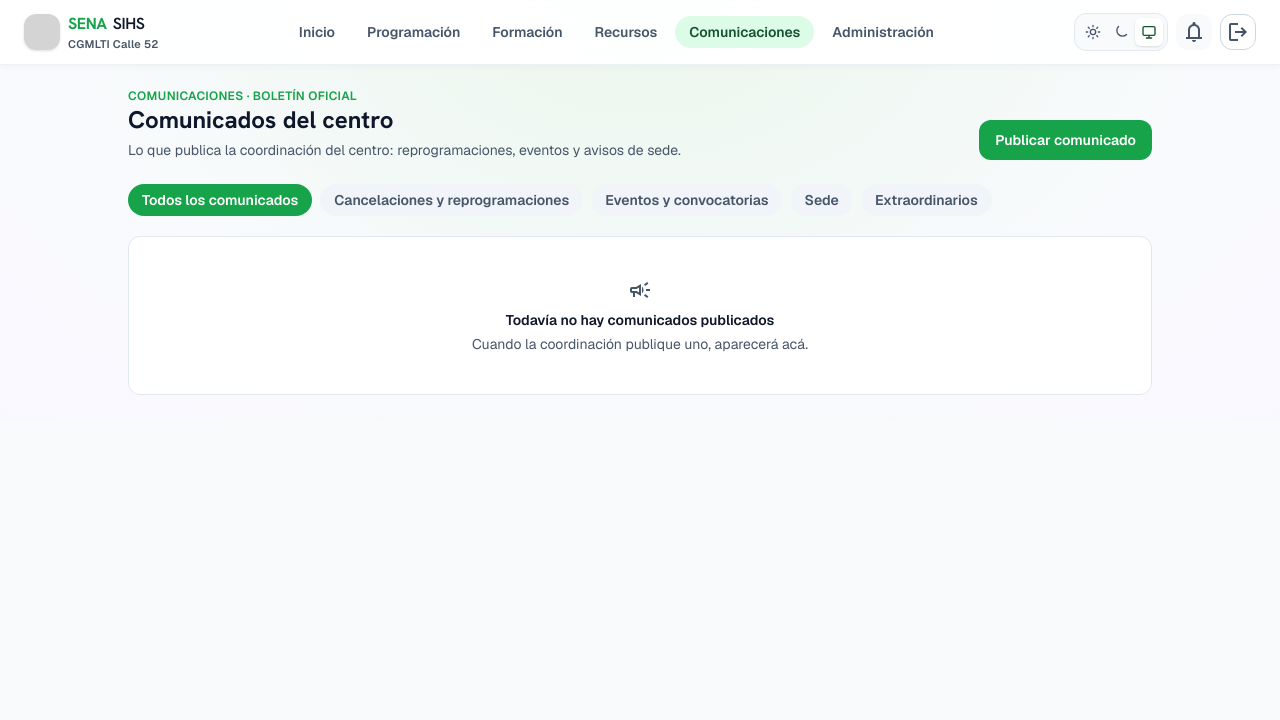
Test: Avisos › permite al coordinador publicar un comunicado con audiencia
Click the button "Publicar comunicado" at (1066, 140), box [979,120,1152,160]
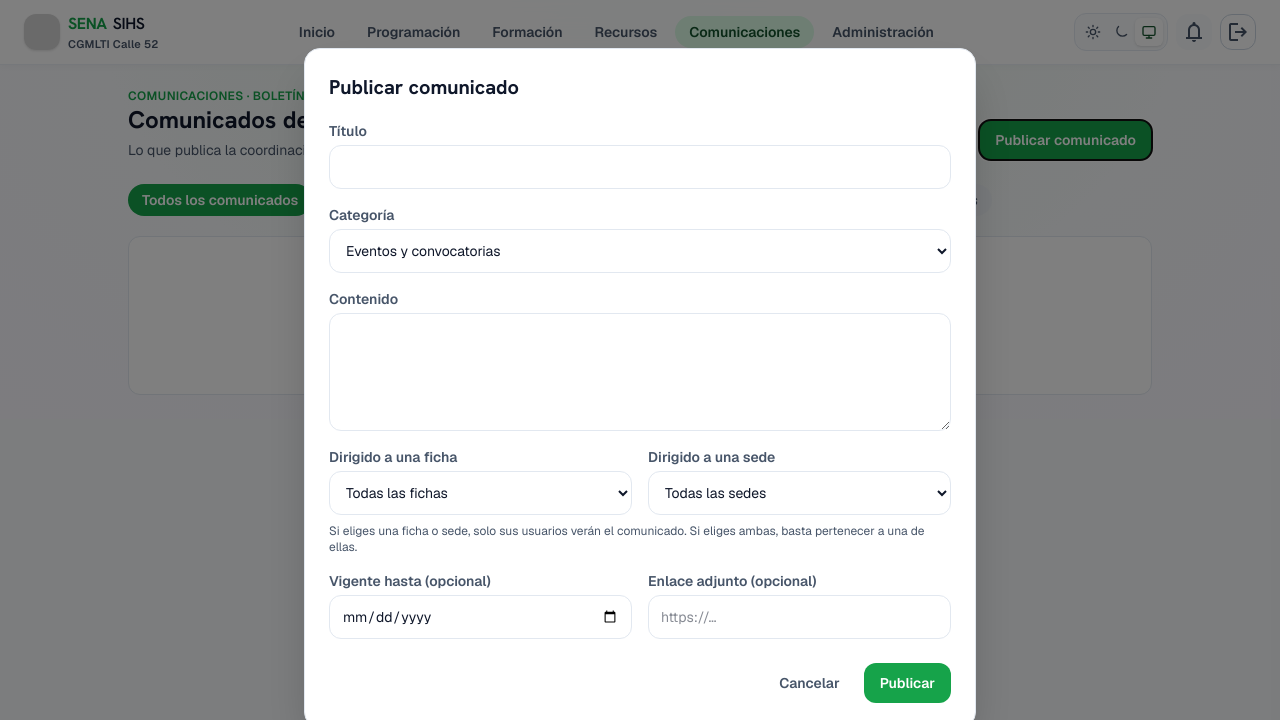
Type "Cambio de aula" into the field labelled "Título" at (640, 167), box [329,145,951,189]
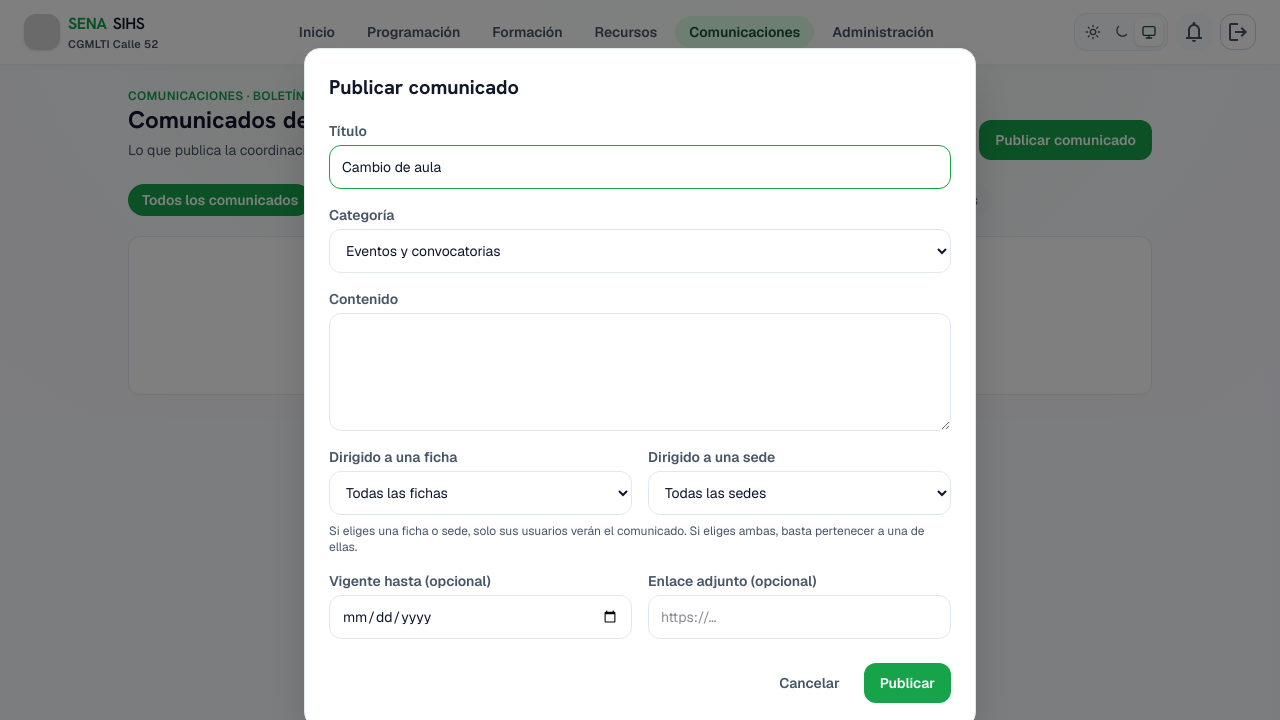
Select "Cancelaciones y reprogramaciones" in the dropdown labelled "Categoría" at (640, 251), box [329,229,951,273]
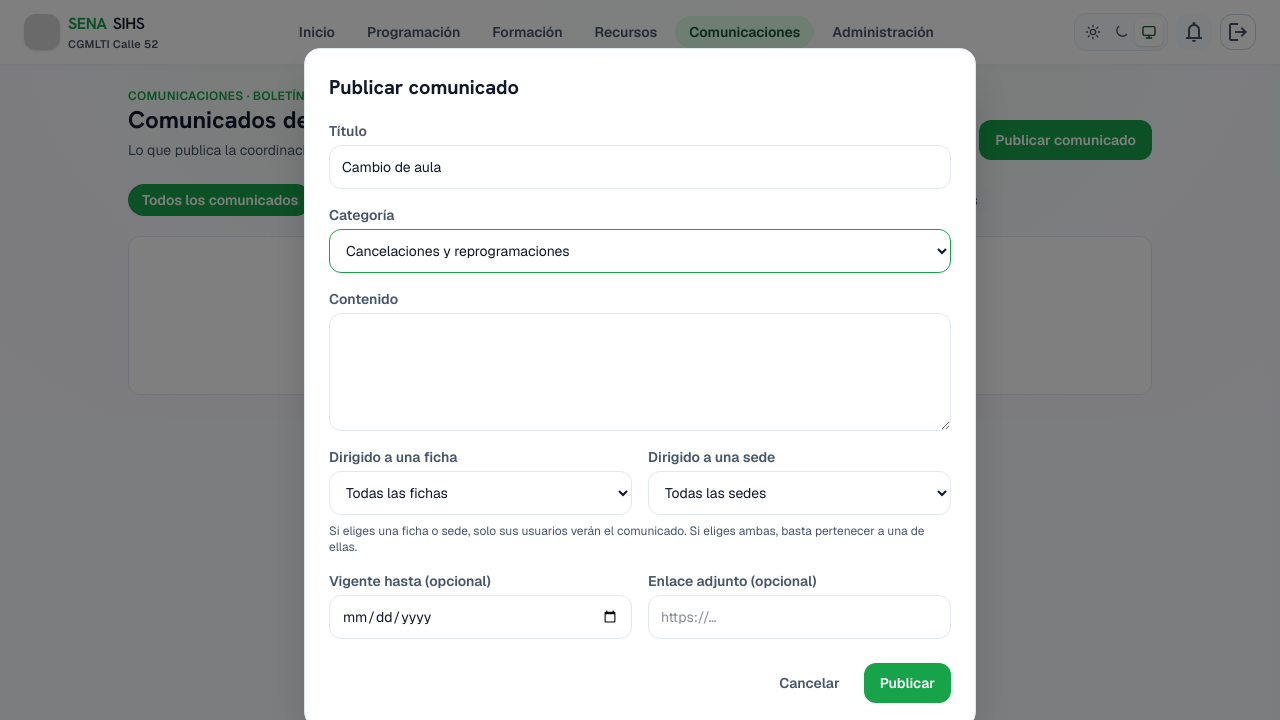
Type "La clase se traslada al laboratorio." into the text box labelled "Contenido" at (640, 372), box [329,313,951,431]
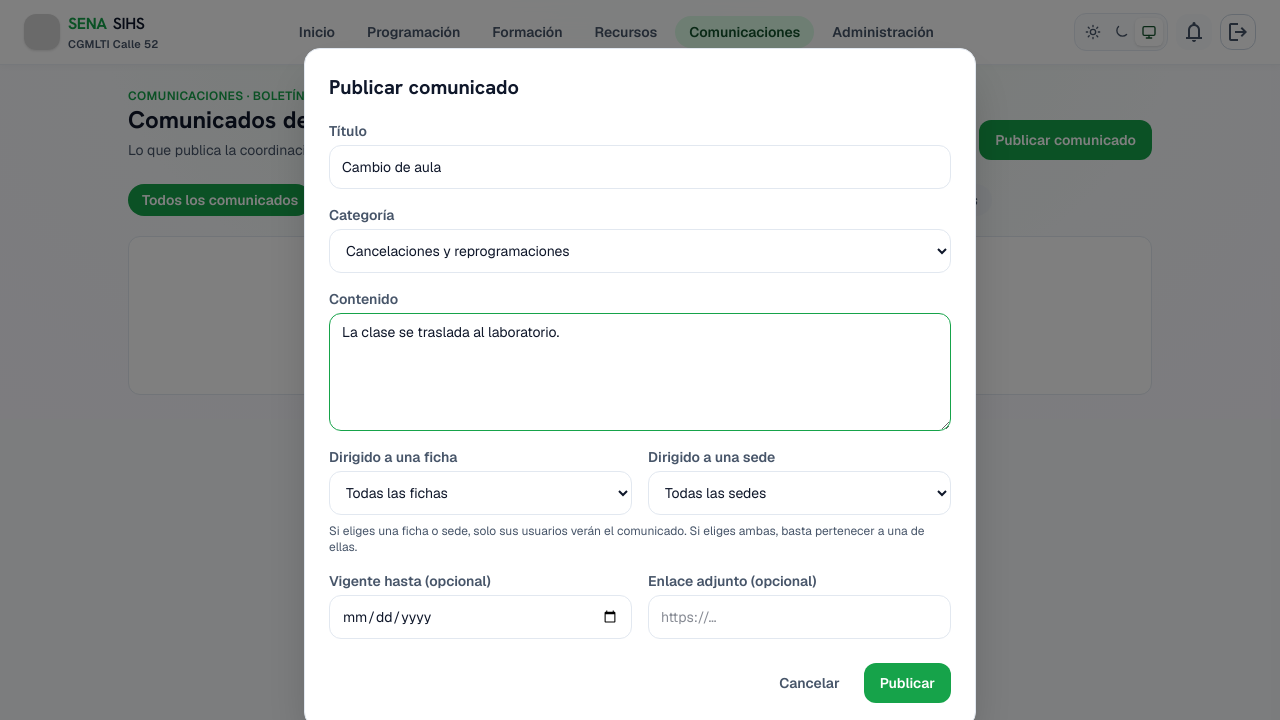
Select "3171618" in the dropdown labelled "Dirigido a una ficha" at (480, 493), box [329,471,632,515]
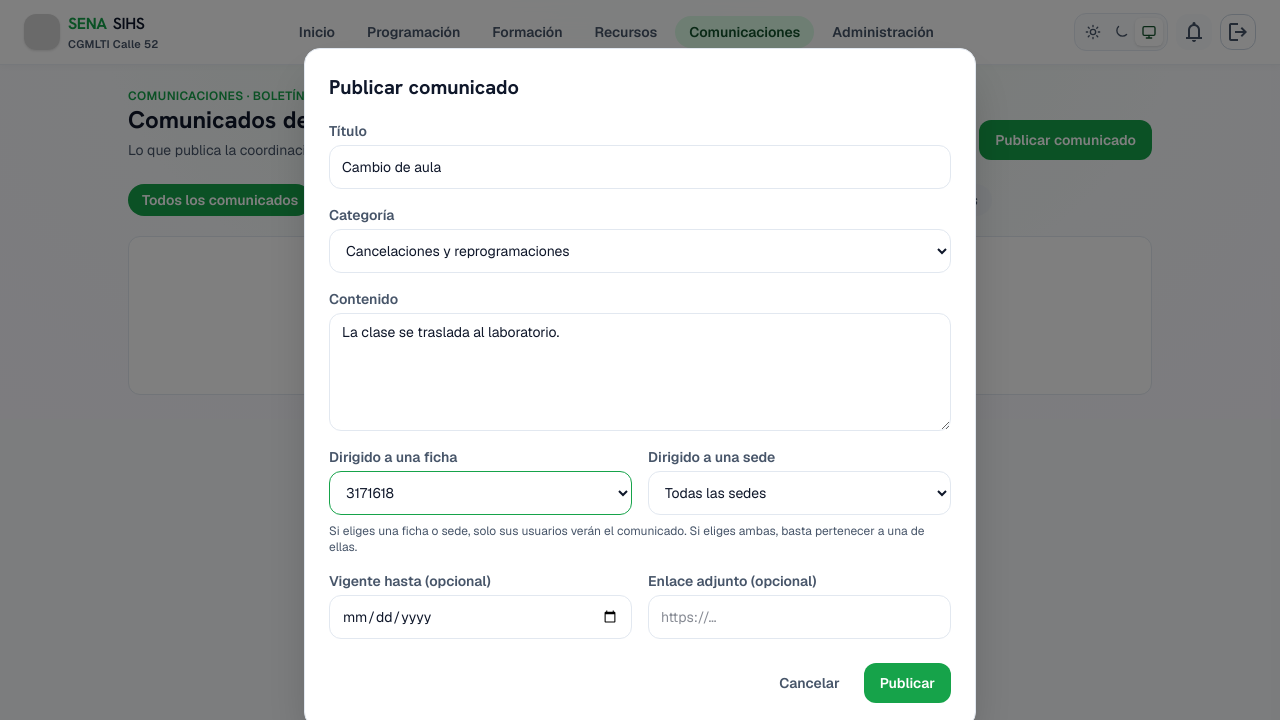
Click the button "Publicar" at (907, 683), box [864,663,951,703]
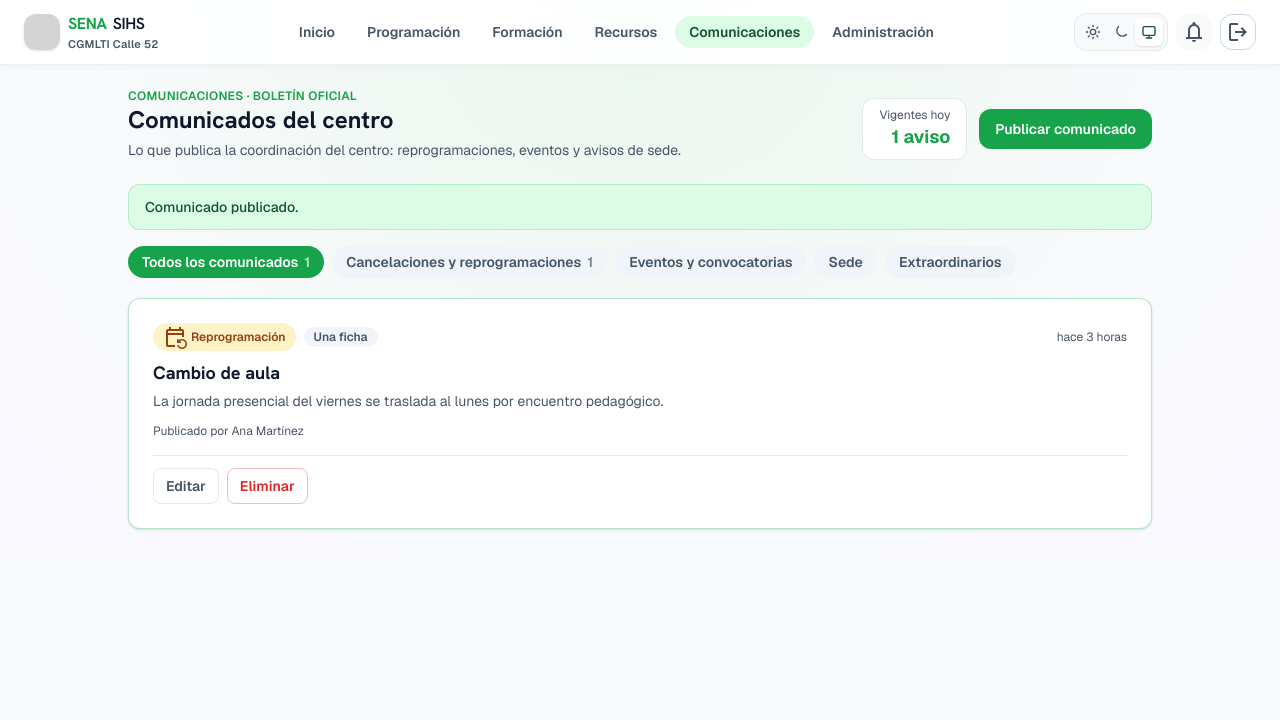
Now the message shows "Comunicado publicado", box [145,198,298,216]
Now the heading "Cambio de aula" is shown, box [153,361,280,384]
